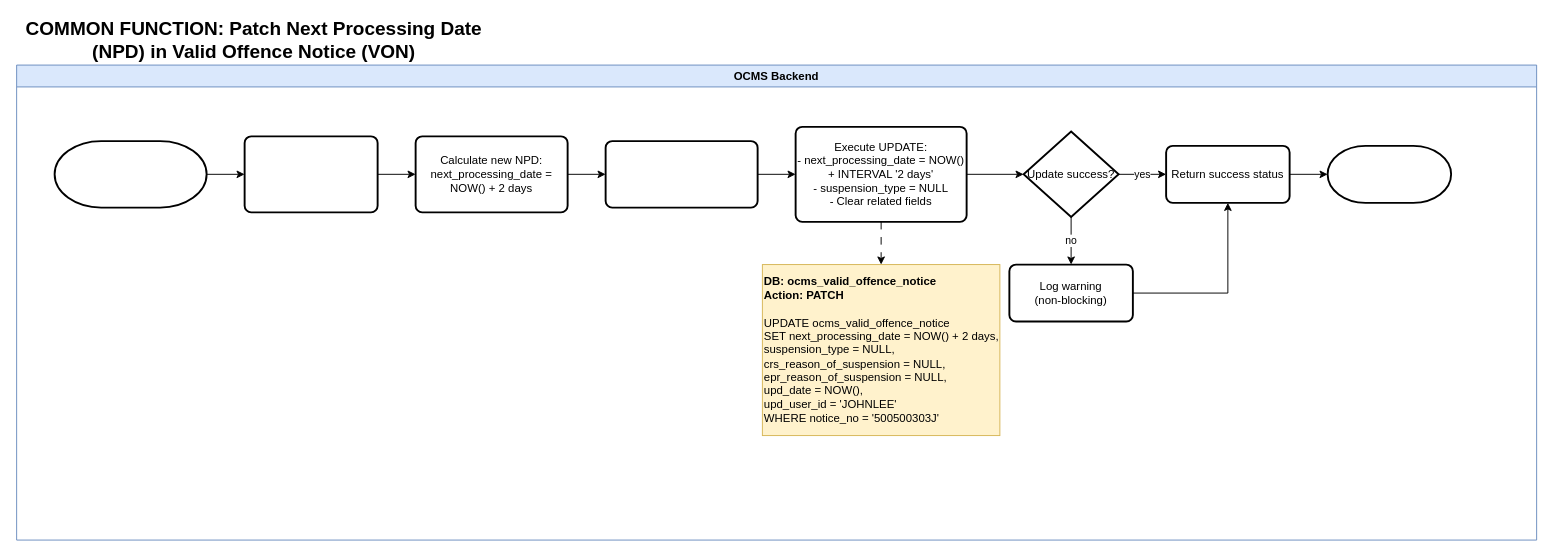
The diagram is 1553 pixels wide and 557 high, and some of its shapes have lost their labels. The box of each missing label's shape, as (x1, y1, x2, y2) in pixels:
Build UPDATE query for ocms_valid_offence_notice: (604, 140, 758, 208)
End (Return to caller): (1326, 144, 1452, 203)
Receive input: - notice_no - officer_id: (243, 135, 378, 213)
Start (Called after revival success): (53, 140, 207, 208)
